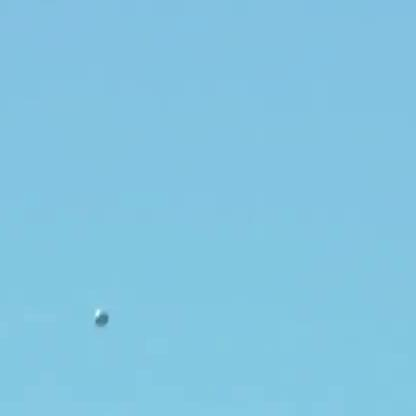golfball: (93, 305, 106, 323)
